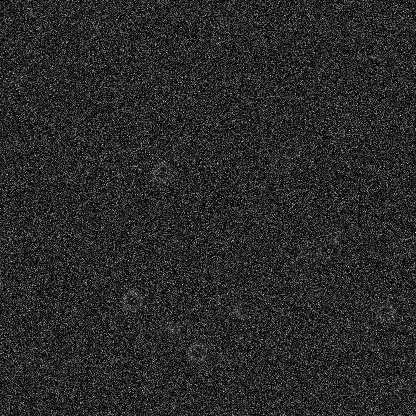Ring: (373, 300, 397, 324), (149, 160, 173, 184), (120, 288, 144, 312), (184, 340, 208, 364), (269, 152, 293, 176), (298, 239, 322, 263)
Spot: (163, 321, 179, 337), (326, 230, 342, 246), (229, 302, 245, 318)
